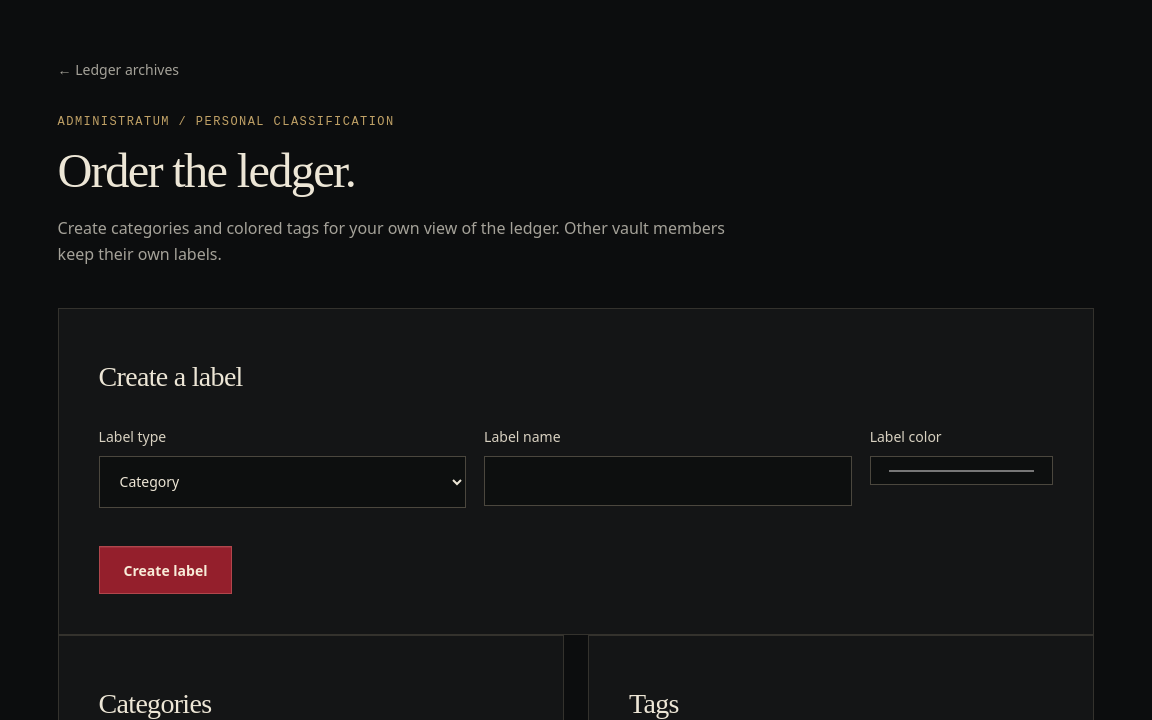
Test: creates a named category with its color
The width and height of the screenshot is (1152, 720).
Type "Wages" into the field labelled "Label name" at [668, 481], box [484,456,852,506]
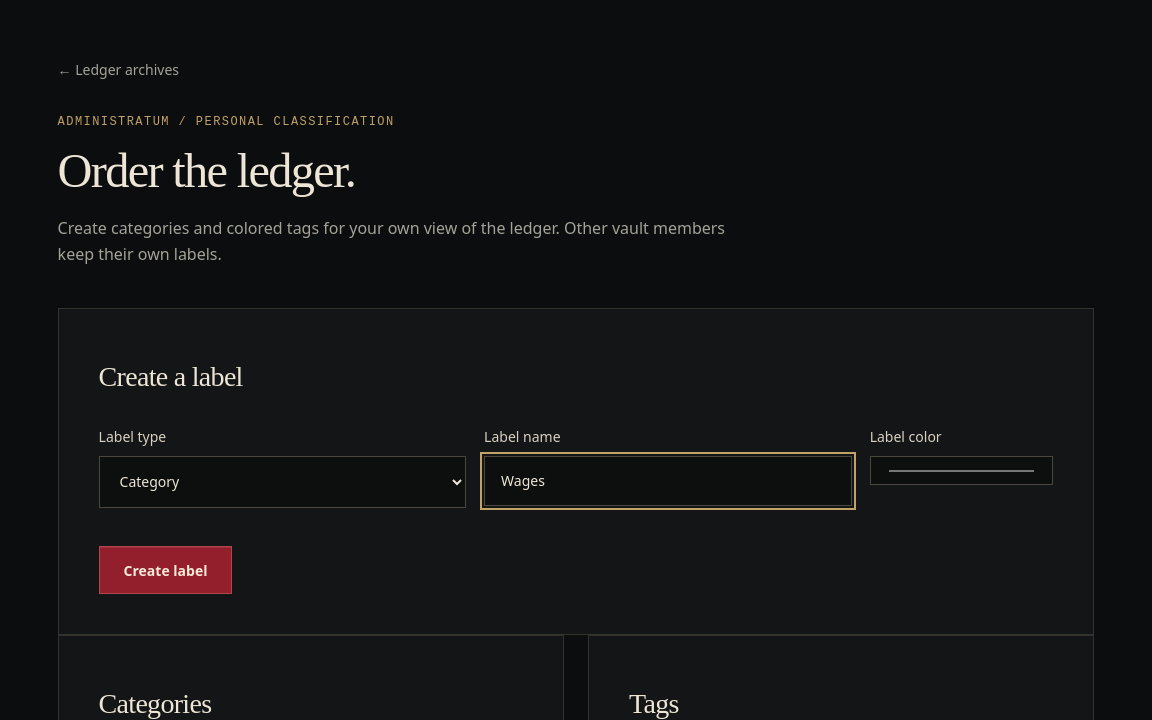
Click the button "Create label" at [166, 570], box [99,546,232,594]
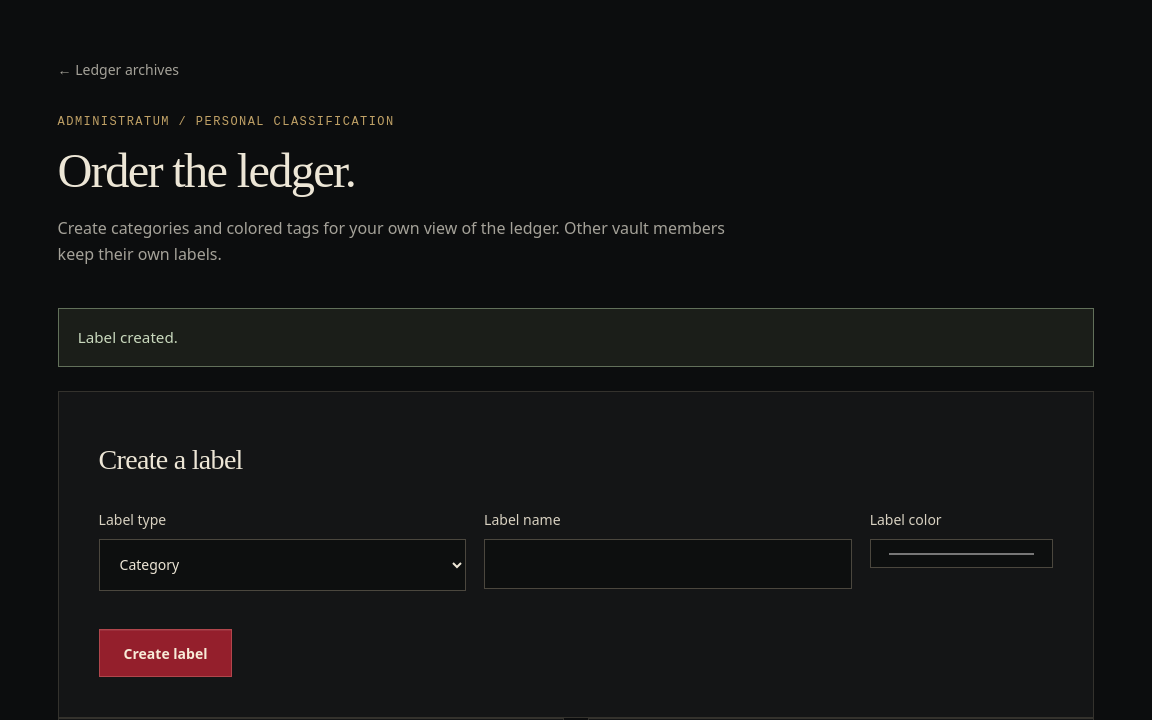
Expected: the text "Label created." is shown, [58,308,1094,367]
